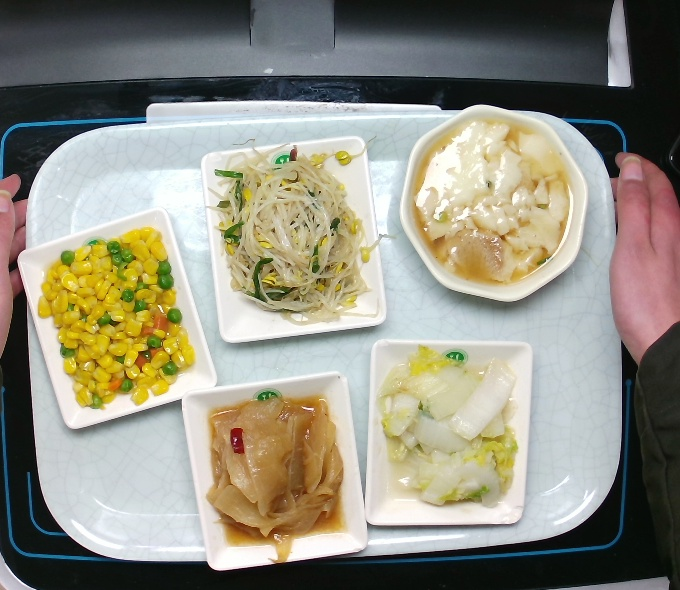wcq-DaBaiCai: (374, 342, 523, 513)
wcq-DongGua: (201, 390, 351, 568)
wcq-DouYa: (202, 131, 398, 327)
wcq-ShuiZhengDan: (407, 112, 577, 291)
wcq-TianMiTianDou: (33, 223, 199, 412)
